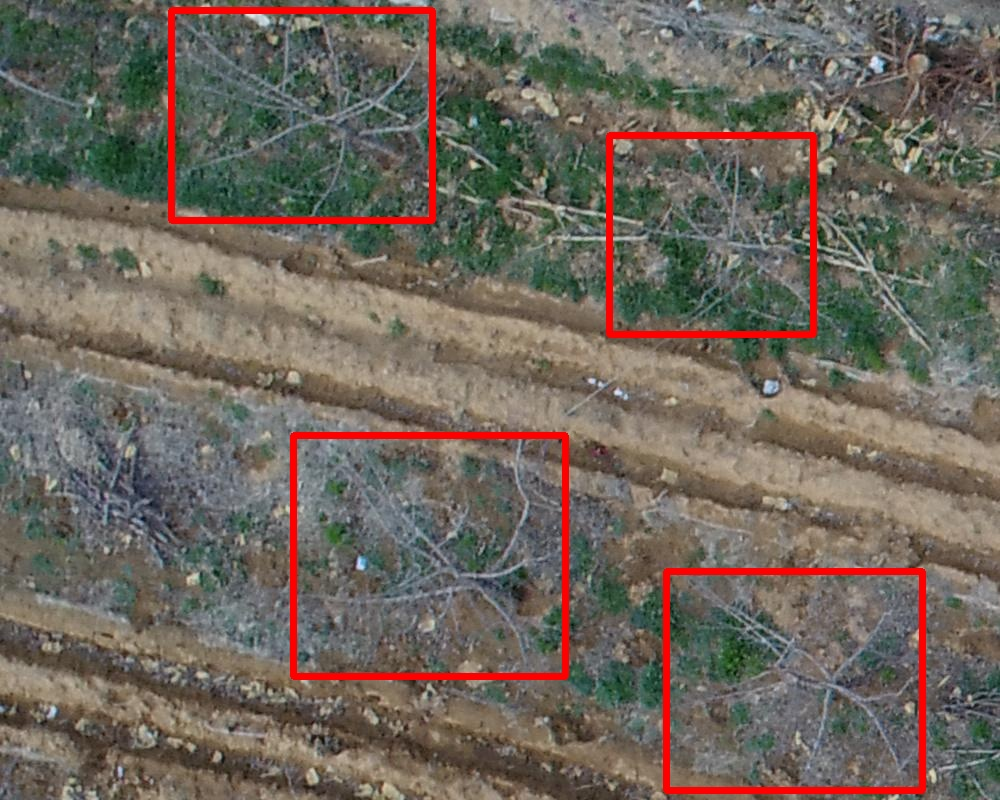apple: (293, 435, 565, 676), (666, 571, 922, 790), (171, 10, 432, 220), (609, 135, 813, 334)
